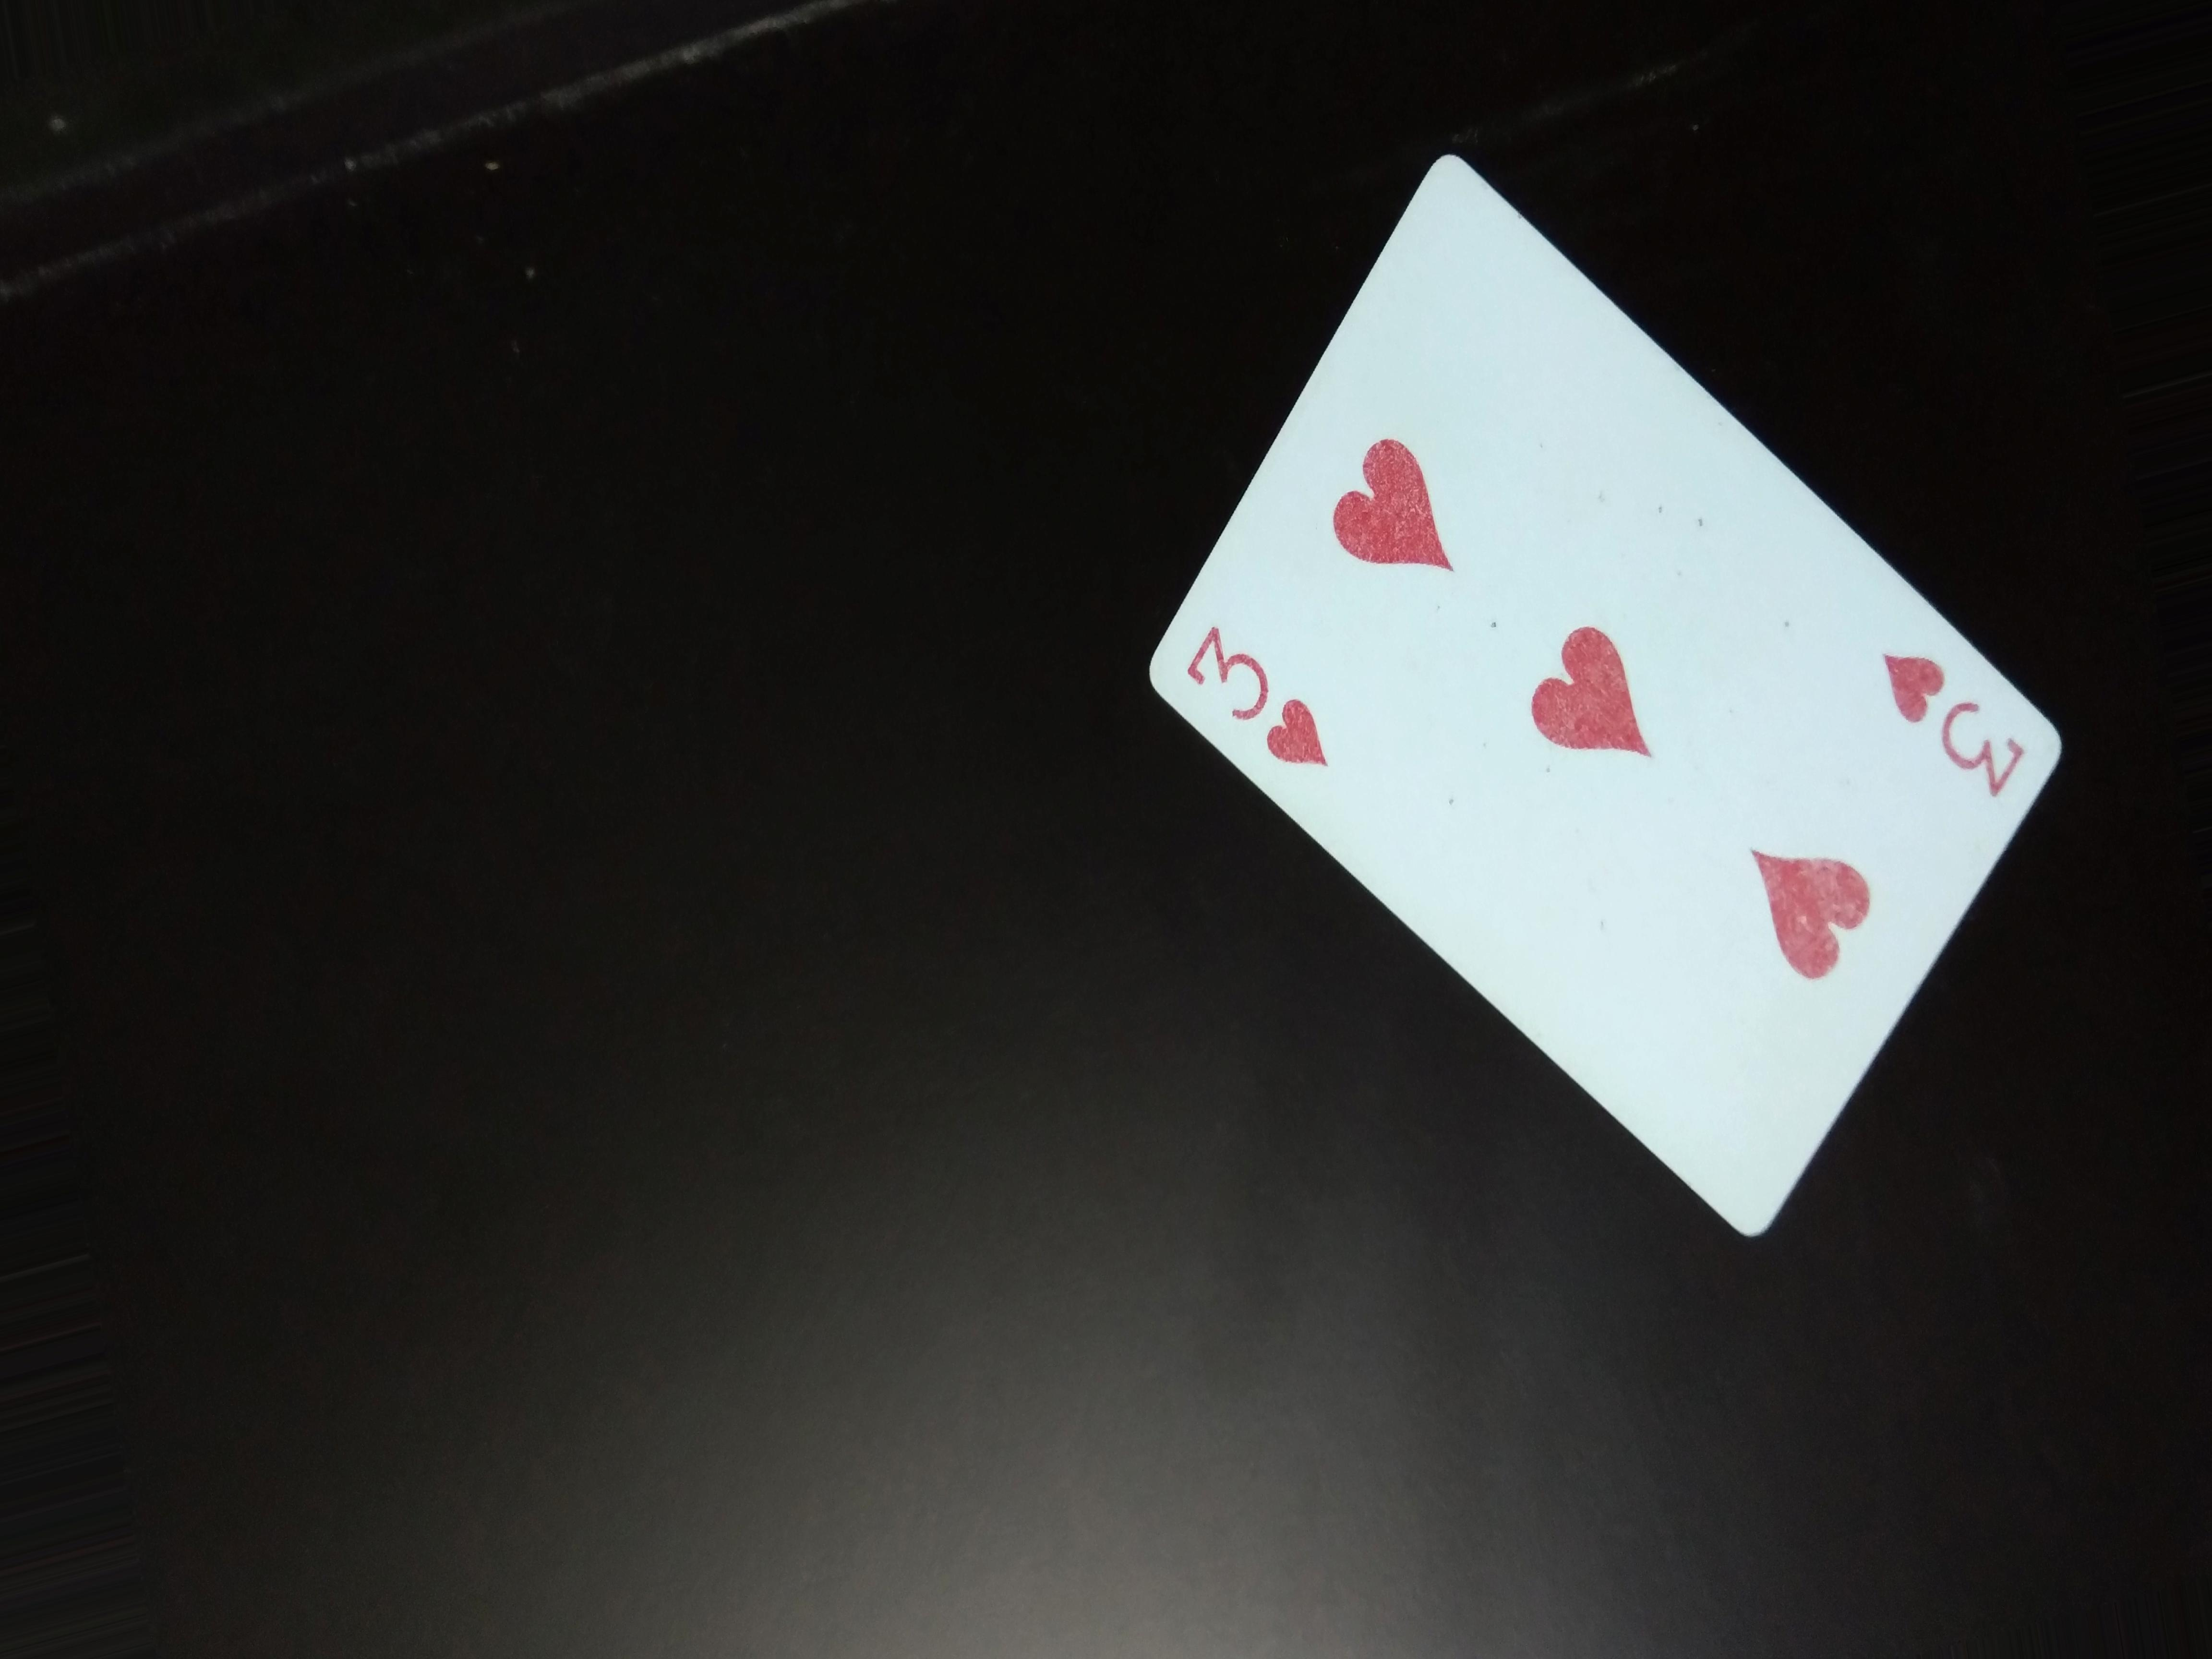3H: (1169, 626, 1352, 793)
